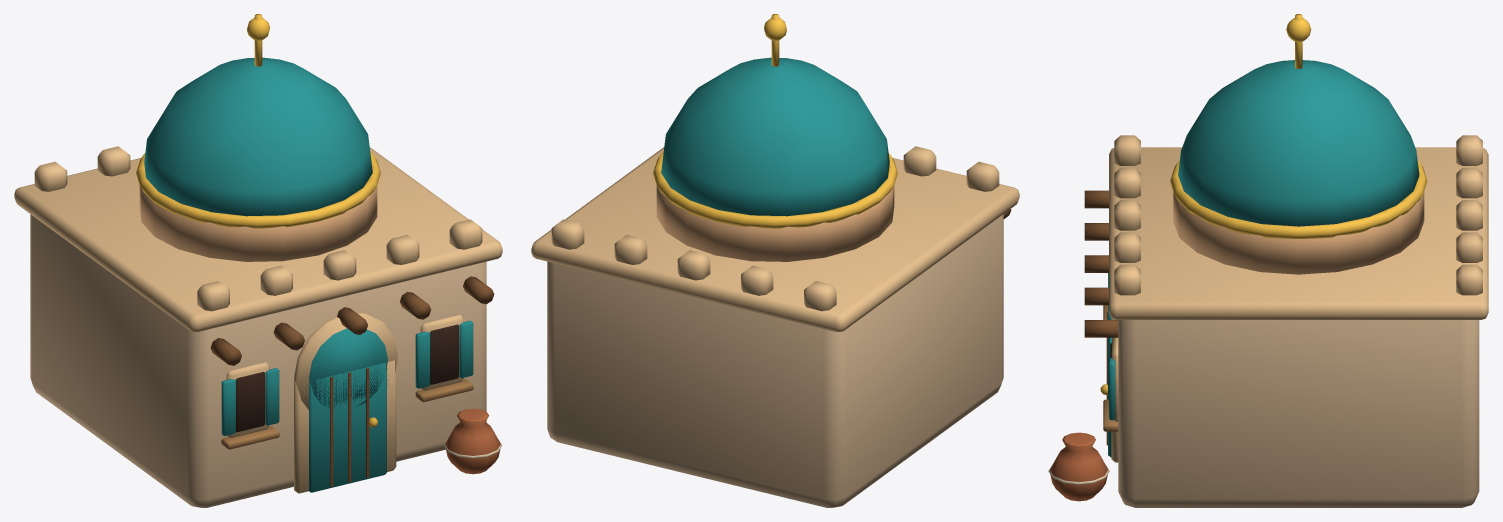
The model's file is desert_house_dome.glb.
The picture shows the model from 3 angles, left to right: view 1: azimuth 30°, elevation 25°; view 2: azimuth 150°, elevation 25°; view 3: azimuth 270°, elevation 25°; orthographic projection. The views are drawn at different scales.
Visible parts, largest first — view 1: D_HouseDome__D_adobe2, D_HouseDome__D_teal, D_HouseDome__D_s2, D_HouseDome__D_adobe, D_HouseDome__D_gold, D_HouseDome__D_wood, D_HouseDome__D_dark, D_HouseDome__D_clay, D_HouseDome__D_woodl; view 2: D_HouseDome__D_adobe2, D_HouseDome__D_s2, D_HouseDome__D_teal, D_HouseDome__D_adobe, D_HouseDome__D_gold; view 3: D_HouseDome__D_adobe2, D_HouseDome__D_s2, D_HouseDome__D_teal, D_HouseDome__D_adobe, D_HouseDome__D_gold, D_HouseDome__D_clay, D_HouseDome__D_wood.
Boxes of the visible parts, x1,y1,x2,y2 form: D_HouseDome__D_adobe2: [30, 214, 486, 507]; D_HouseDome__D_teal: [144, 57, 473, 492]; D_HouseDome__D_s2: [14, 146, 502, 493]; D_HouseDome__D_adobe: [139, 186, 377, 261]; D_HouseDome__D_gold: [136, 14, 380, 427]; D_HouseDome__D_wood: [210, 276, 494, 486]; D_HouseDome__D_dark: [236, 324, 458, 432]; D_HouseDome__D_clay: [445, 408, 500, 474]; D_HouseDome__D_woodl: [221, 379, 473, 449]; D_HouseDome__D_adobe2: [547, 214, 1003, 507]; D_HouseDome__D_s2: [531, 146, 1019, 331]; D_HouseDome__D_teal: [661, 57, 889, 216]; D_HouseDome__D_adobe: [656, 186, 894, 261]; D_HouseDome__D_gold: [653, 14, 897, 228]; D_HouseDome__D_adobe2: [1118, 320, 1479, 507]; D_HouseDome__D_s2: [1109, 135, 1488, 462]; D_HouseDome__D_teal: [1108, 60, 1419, 457]; D_HouseDome__D_adobe: [1173, 192, 1424, 274]; D_HouseDome__D_gold: [1100, 14, 1427, 394]; D_HouseDome__D_clay: [1050, 432, 1108, 501]; D_HouseDome__D_wood: [1084, 190, 1118, 445].
Bounding box in the file's own units: 4.84 × 5.95 × 5.61.
